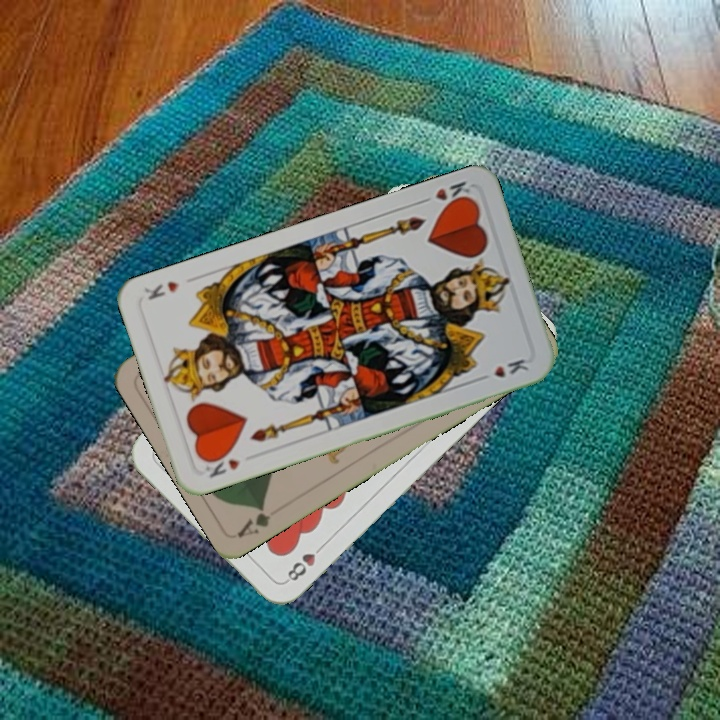GA: (234, 502, 274, 540)
H8: (281, 539, 328, 585)
HK: (415, 177, 475, 211), (200, 448, 243, 481)
